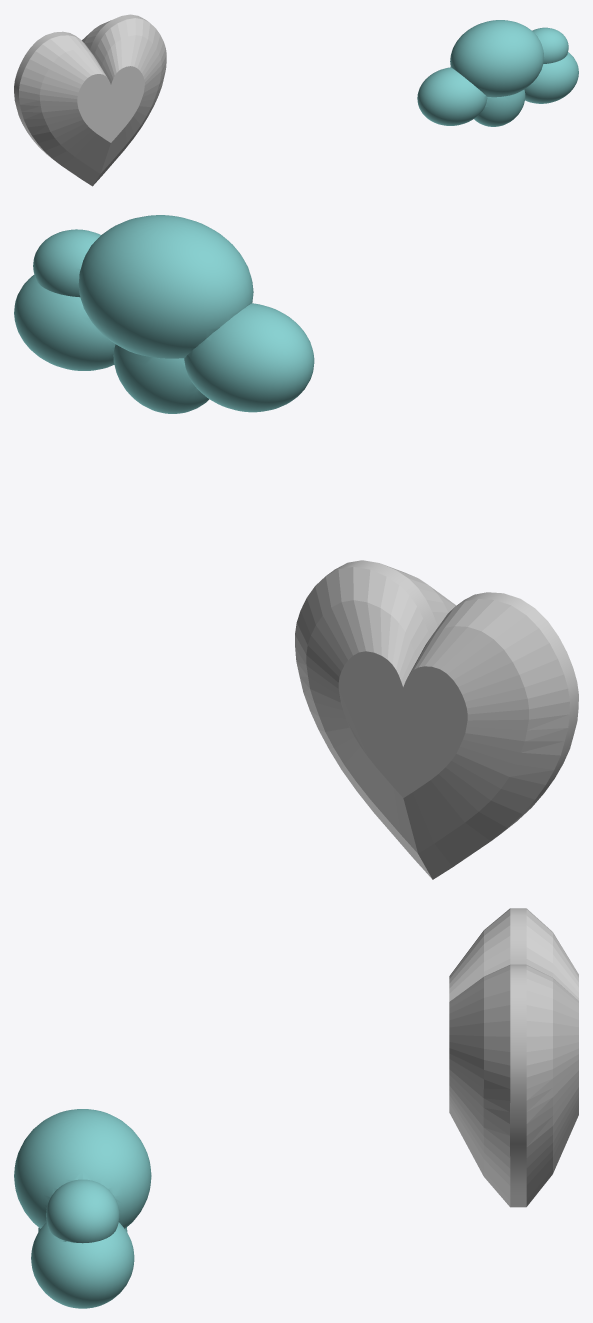
The model's file is hearts.fbx.
3 renders of one model, top to bottom at view 1: azimuth 30°, elevation 25°; view 2: azimuth 150°, elevation 25°; view 3: azimuth 270°, elevation 25°, orthographic. The views are drawn at different scales.
Parts seen in each view (by area): view 1: Line002, Sphere005; view 2: Line002, Sphere005; view 3: Line002, Sphere005.
Boxes of the visible parts, x1=… form: Line002: x1=14, y1=14, x2=166, y2=186; Sphere005: x1=417, y1=20, x2=578, y2=126; Line002: x1=295, y1=560, x2=578, y2=879; Sphere005: x1=14, y1=215, x2=314, y2=413; Line002: x1=449, y1=908, x2=578, y2=1207; Sphere005: x1=14, y1=1109, x2=151, y2=1308.
Bounding box in the file's own units: 3055 × 1285 × 2091.
